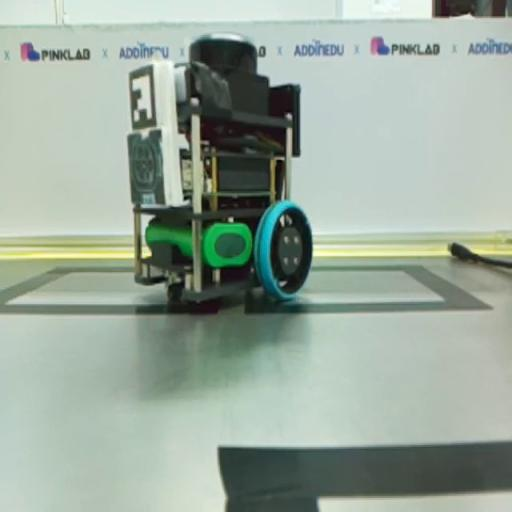pinky_63: (126, 33, 312, 305)
